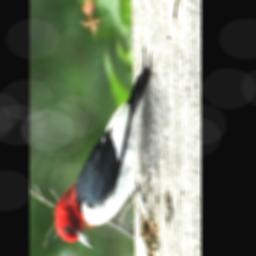Woodpecker: (54, 50, 151, 250)
